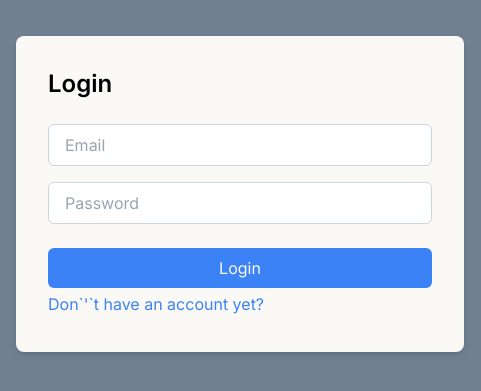
Test case: Login Component › displays error message when password is too short
Type "test@example.com" into the field with placeholder "Email".
click(240, 145); type("test@example.com")  # box [48,124,432,166]
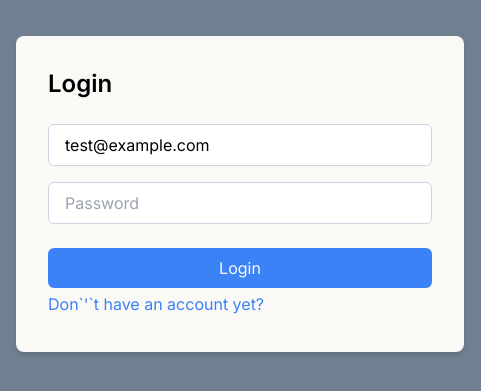
Type "short" into the password field with placeholder "Password".
click(240, 203); type("short")  # box [48,182,432,224]
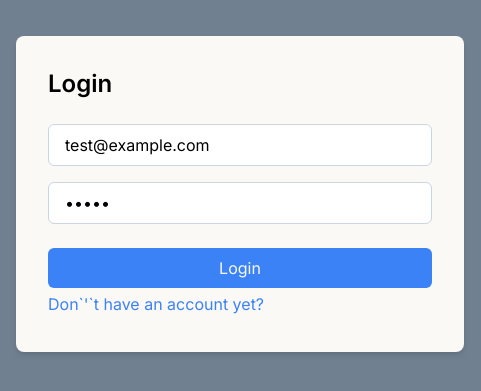
Click the button "Login".
click(240, 268)  # box [48,248,432,288]
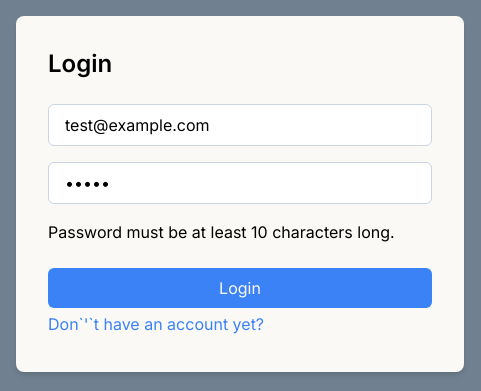
Check: the text "Password must be at least 10 characters long." is shown, box [48,220,432,244]
